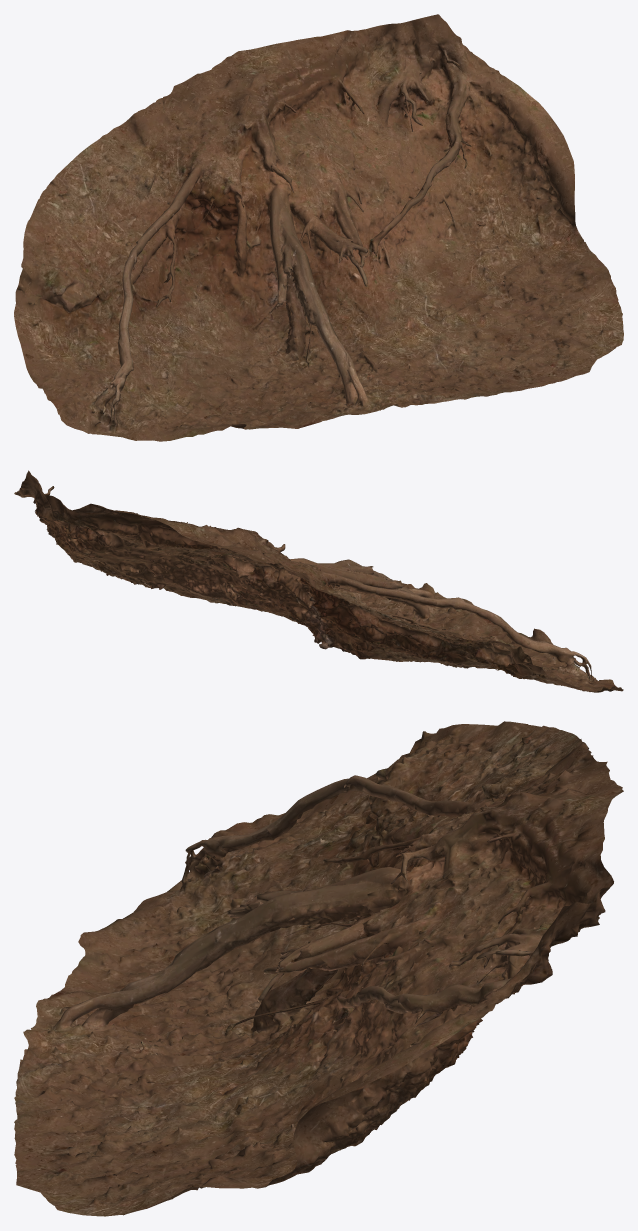
Rendered from roots.glb.
3 renders of one model, top to bottom at view 1: azimuth 30°, elevation 25°; view 2: azimuth 150°, elevation 25°; view 3: azimuth 270°, elevation 25°, orthographic. The views are drawn at different scales.
Parts seen in each view (by area): view 1: root_cluster_01; view 2: root_cluster_01; view 3: root_cluster_01.
Part boxes in pixels (<box>): root_cluster_01: <box>14,14,623,441</box>; root_cluster_01: <box>14,470,623,692</box>; root_cluster_01: <box>14,721,623,1216</box>.
Bounding box in the file's own units: 4.12 × 1.51 × 2.68.
1 material, 1 textured.
